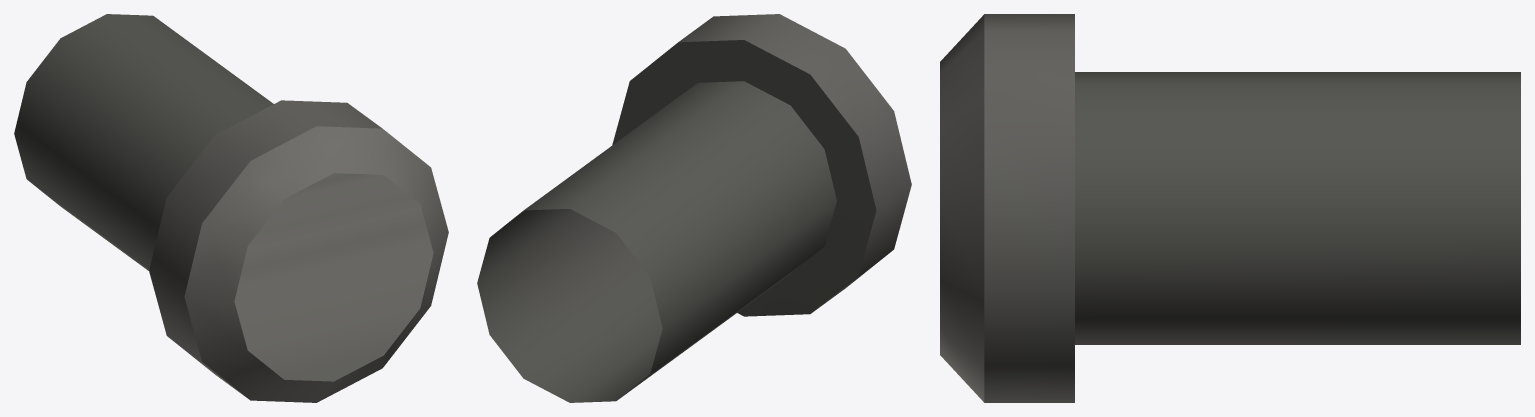
File: 61_ELM_Nail.fbx
3 views of the same model, side by side, from view 1: azimuth 30°, elevation 25°; view 2: azimuth 150°, elevation 25°; view 3: azimuth 270°, elevation 25° (orthographic). The views are drawn at different scales.
Visible parts, largest first — view 1: Nail_mod; view 2: Nail_mod; view 3: Nail_mod.
Boxes of the visible parts, x1=… form: Nail_mod: x1=14, y1=14, x2=448, y2=402; Nail_mod: x1=477, y1=14, x2=911, y2=402; Nail_mod: x1=940, y1=14, x2=1520, y2=402.
Bounding box in the file's own units: 0.1199 × 0.1199 × 0.1784.
